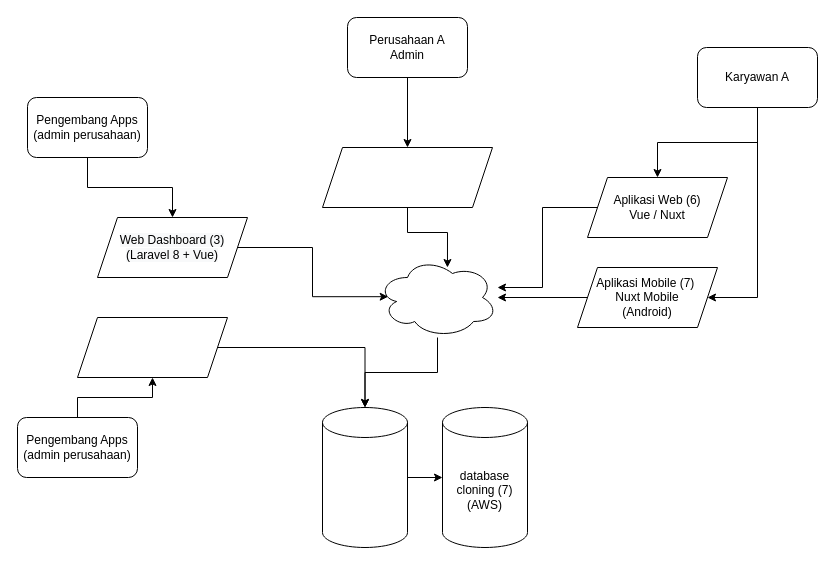
The diagram is 835 pixels wide and 565 high, and some of its shapes have lost their labels. The shapes that lost their labels are listed below. From the top down, each one's box as (x1, y1, x2, y2) in pixels, then its label:
(322, 146, 492, 208): Web Dashboard (5) (Laravel 8 + Vue / Nuxt)
(376, 256, 498, 338): API (4) Lumen
(76, 316, 228, 378): Web Dashboard (2) (Laravel 8 + Vue)
(322, 406, 408, 548): database main (1) (AWS)
